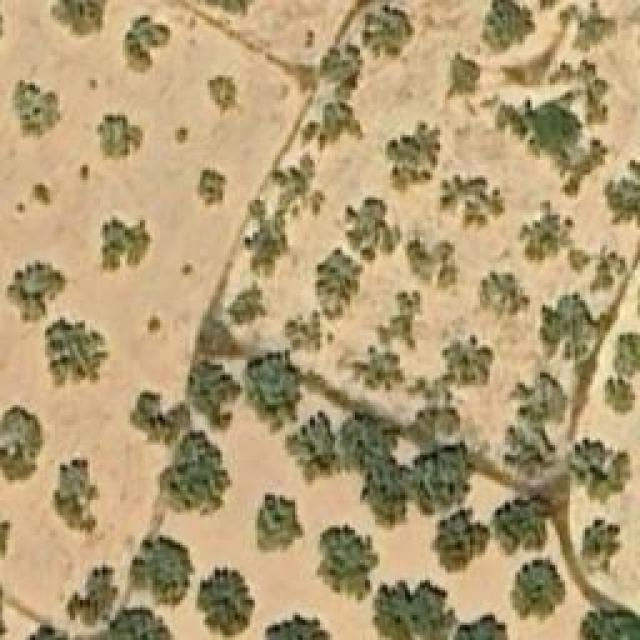Tree: (498, 98, 608, 193), (160, 430, 233, 510), (315, 523, 380, 603), (42, 320, 110, 390), (375, 580, 453, 640), (192, 567, 255, 640), (130, 537, 195, 605), (188, 360, 243, 433), (0, 405, 50, 485), (5, 260, 64, 325), (535, 295, 593, 360), (517, 200, 575, 265), (437, 175, 505, 230), (388, 123, 441, 193), (410, 448, 463, 513), (53, 458, 98, 533), (250, 355, 298, 425), (513, 560, 566, 623), (340, 410, 396, 469), (348, 195, 398, 260), (240, 208, 290, 273), (358, 465, 413, 524), (492, 498, 550, 553), (567, 443, 625, 498), (13, 78, 66, 138), (255, 493, 305, 556), (68, 565, 118, 628), (273, 154, 329, 210), (290, 422, 343, 480), (123, 15, 173, 75), (130, 393, 190, 443), (435, 515, 483, 573), (302, 103, 360, 151), (100, 220, 153, 270), (483, 0, 536, 50), (363, 8, 416, 58), (575, 518, 622, 573), (103, 605, 176, 640), (313, 253, 358, 308), (318, 48, 363, 103), (505, 428, 553, 478), (98, 113, 143, 163), (480, 273, 530, 318), (410, 240, 460, 285), (445, 338, 493, 383), (350, 350, 403, 390), (260, 612, 335, 640), (580, 605, 640, 640), (518, 377, 561, 425), (50, 0, 108, 35), (605, 165, 640, 218), (448, 53, 483, 98), (453, 612, 508, 640), (285, 315, 325, 353), (603, 375, 636, 418), (612, 330, 640, 378), (205, 0, 259, 22), (197, 168, 225, 208), (207, 77, 235, 115), (10, 625, 70, 640), (230, 293, 260, 323), (30, 183, 60, 208), (148, 315, 163, 335)
